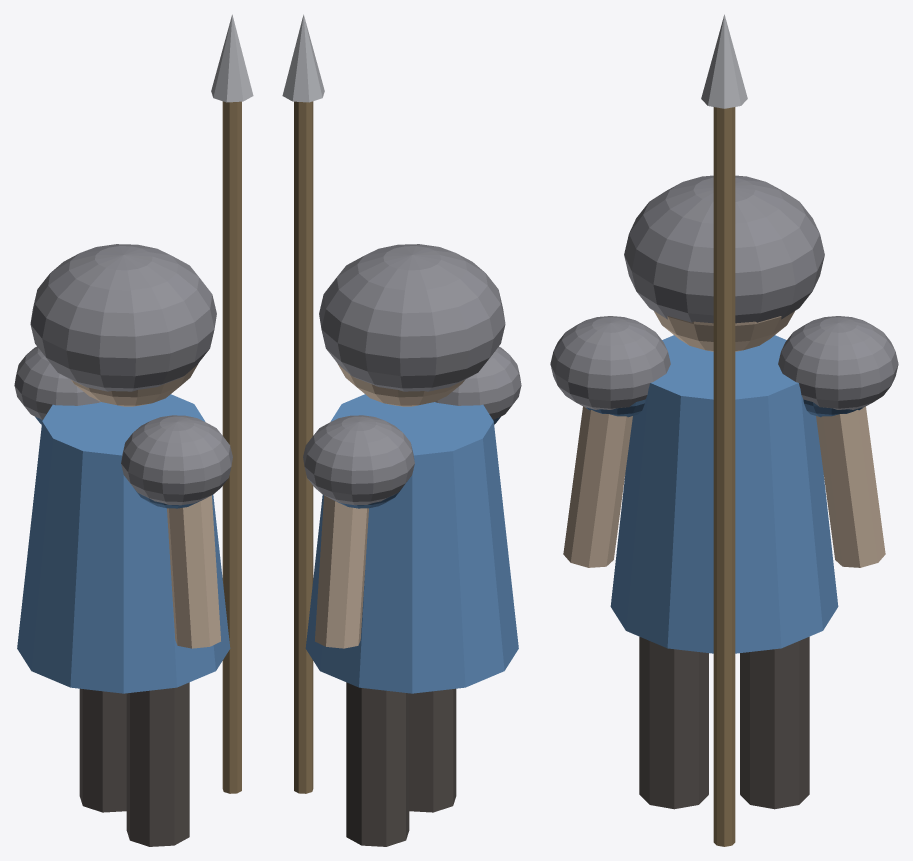
File: hero_aldar_3.glb
3 renders of one model, left to right at view 1: azimuth 30°, elevation 25°; view 2: azimuth 150°, elevation 25°; view 3: azimuth 270°, elevation 25°, orthographic. The views are drawn at different scales.
Visible parts, largest first — view 1: figurka; view 2: figurka; view 3: figurka.
Part boxes in pixels (<box>): figurka: <box>14,14,253,846</box>; figurka: <box>282,14,521,846</box>; figurka: <box>550,14,898,846</box>.
Bounding box in the file's own units: 0.405 × 1.37 × 0.52.
